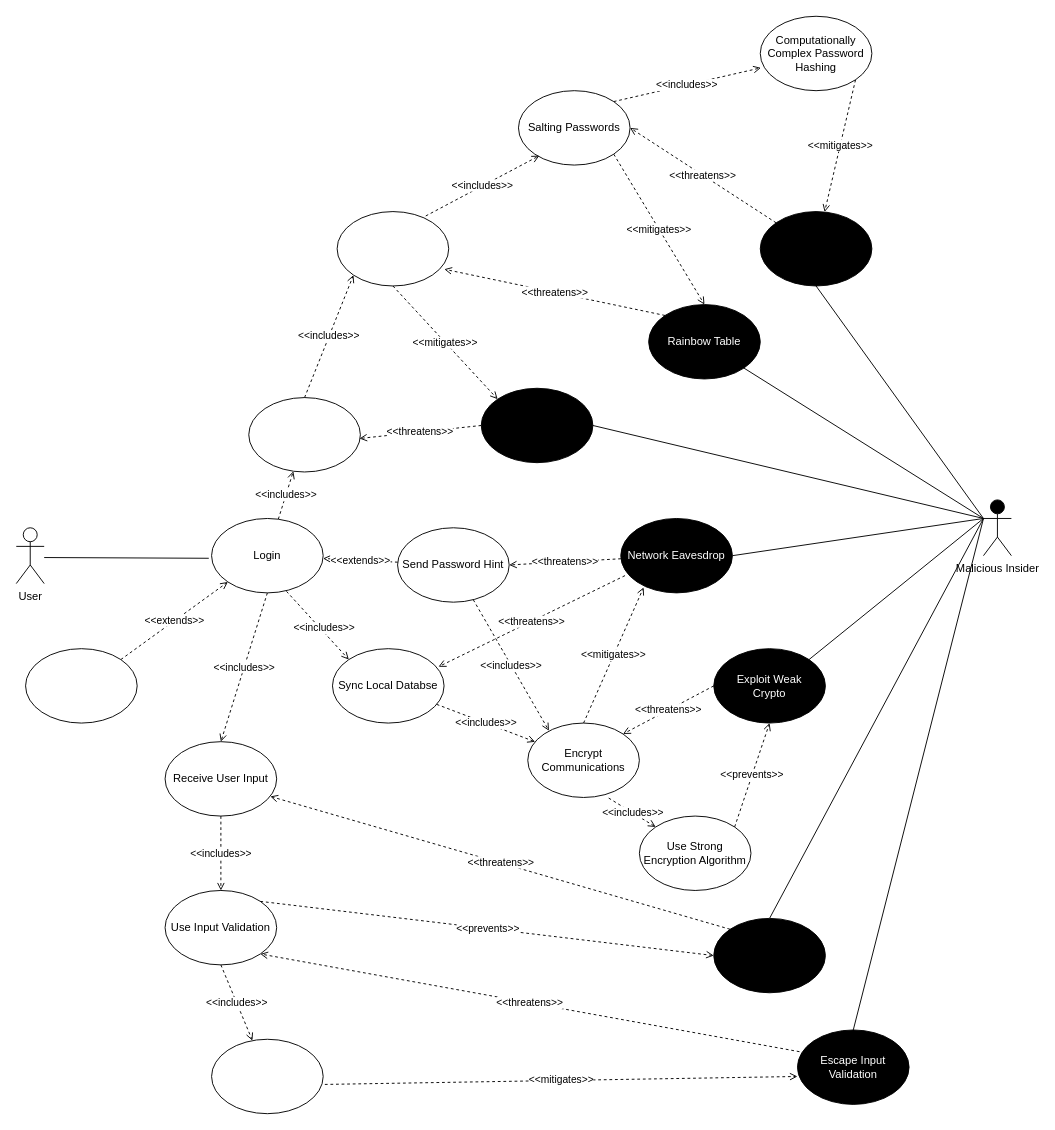
The diagram is 1055 pixels wide and 1130 high, and some of its shapes have lost their labels. The centre of each missing label's shape, as x and y in pixels:
Brute Forcing Salted Hashes: the point at 815,248
Database Theft: the point at 536,425
Logout: the point at 81,685
Malicious Input: the point at 769,955
Password Verification: the point at 304,434
Use Input Sanitation: the point at 267,1076
Use Password Hashing: the point at 392,248
